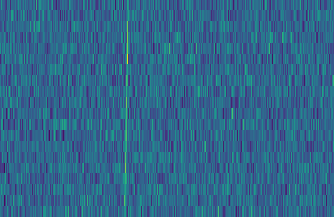signal: (119, 0, 131, 217)
